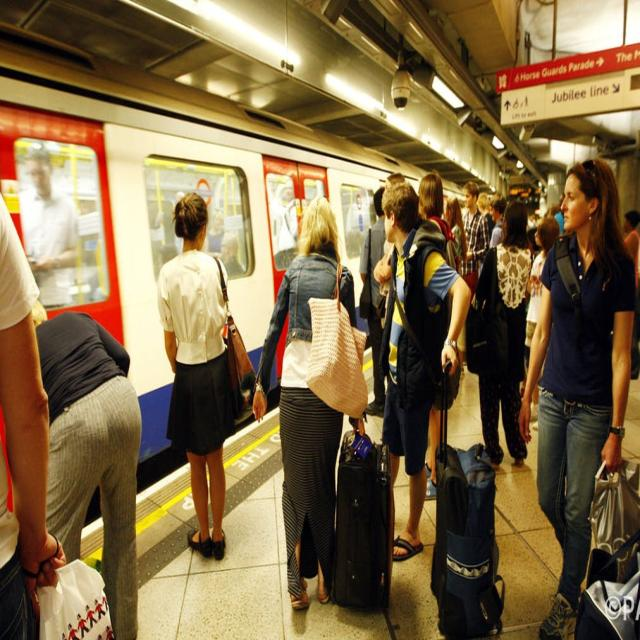body: (514, 153, 637, 639), (250, 189, 367, 615), (30, 298, 143, 640), (378, 180, 471, 564), (1, 202, 74, 637), (156, 191, 234, 562), (473, 198, 533, 472), (414, 170, 459, 500), (380, 180, 430, 462), (18, 146, 83, 313), (523, 215, 562, 433), (359, 185, 394, 419), (444, 194, 466, 378), (458, 180, 489, 306), (622, 209, 640, 380), (206, 208, 251, 273), (148, 185, 184, 261), (267, 175, 296, 255), (345, 190, 368, 254), (517, 181, 549, 214), (488, 194, 507, 249), (475, 191, 494, 243), (553, 190, 570, 237)
